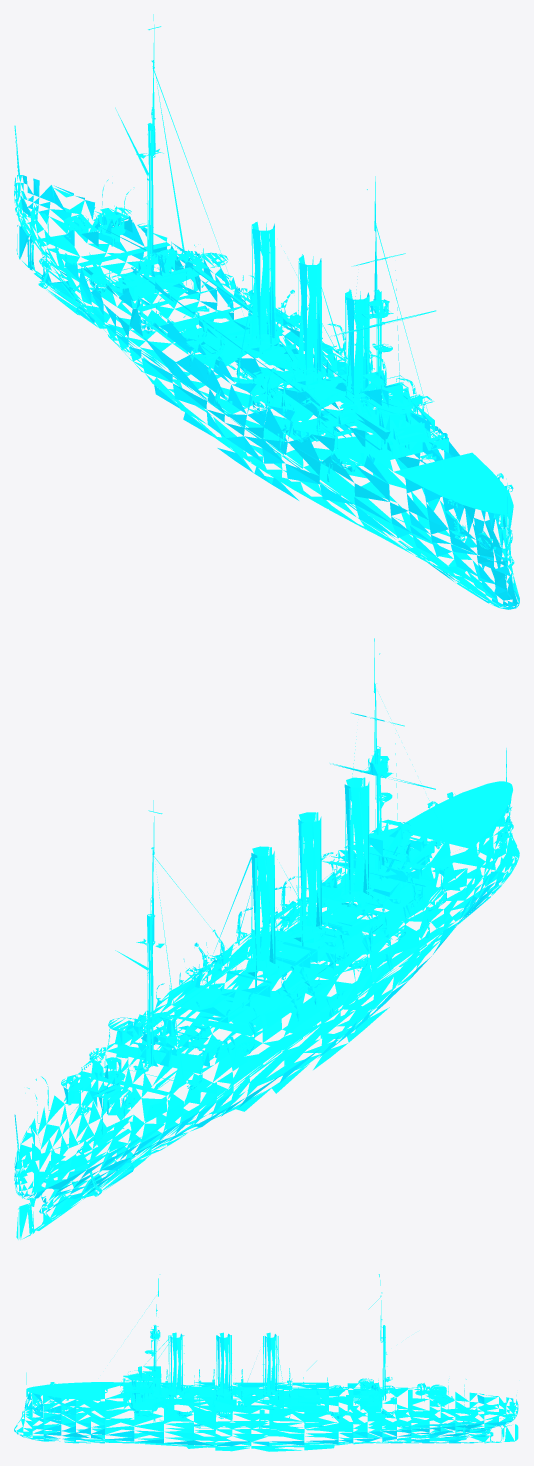
File: AZUR_Avrora.glb
The picture shows the model from 3 angles, top to bottom: view 1: azimuth 30°, elevation 25°; view 2: azimuth 150°, elevation 25°; view 3: azimuth 270°, elevation 25°; orthographic projection. The views are drawn at different scales.
Size of the model in its own units: 1.16 by 3.21 by 8.46.
